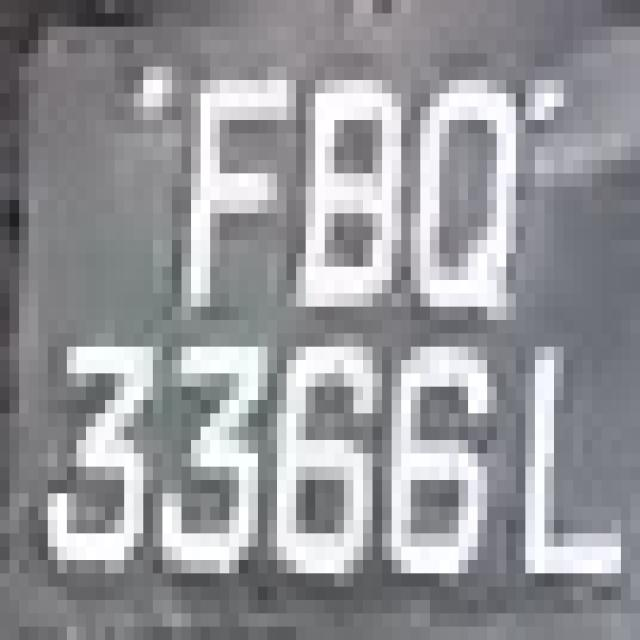3: (29, 266, 152, 586), (153, 280, 277, 573)
6: (382, 320, 506, 613), (277, 306, 382, 586)
B: (296, 40, 411, 360)
F: (172, 13, 296, 307)
L: (497, 294, 630, 614)
Q: (392, 40, 535, 360)
